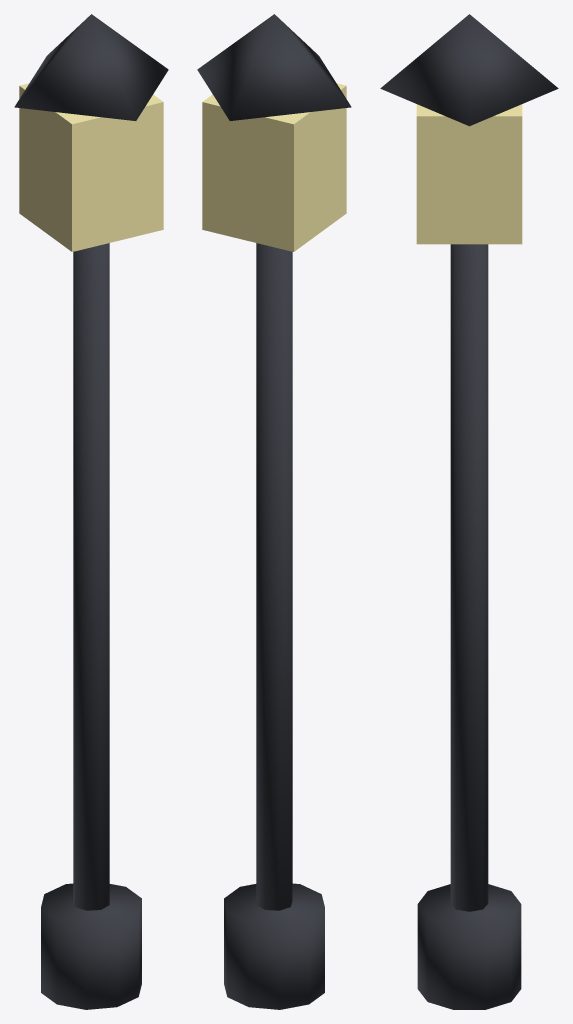
File: lamppost.glb
3 renders of one model, left to right at view 1: azimuth 30°, elevation 25°; view 2: azimuth 150°, elevation 25°; view 3: azimuth 270°, elevation 25°, orthographic.
Parts seen in each view (by area): view 1: lamppost; view 2: lamppost; view 3: lamppost.
Part boxes in pixels (bbox=[...]): lamppost: bbox=[14, 14, 168, 1009]; lamppost: bbox=[197, 14, 351, 1009]; lamppost: bbox=[380, 14, 558, 1009].
Size of the model in its own units: 0.76 by 4.57 by 0.76.
